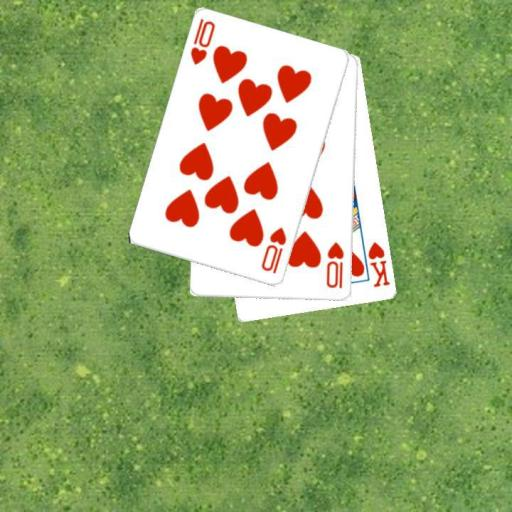10H: (258, 224, 288, 275), (187, 16, 217, 67), (324, 239, 347, 290)
KH: (365, 239, 392, 289)
